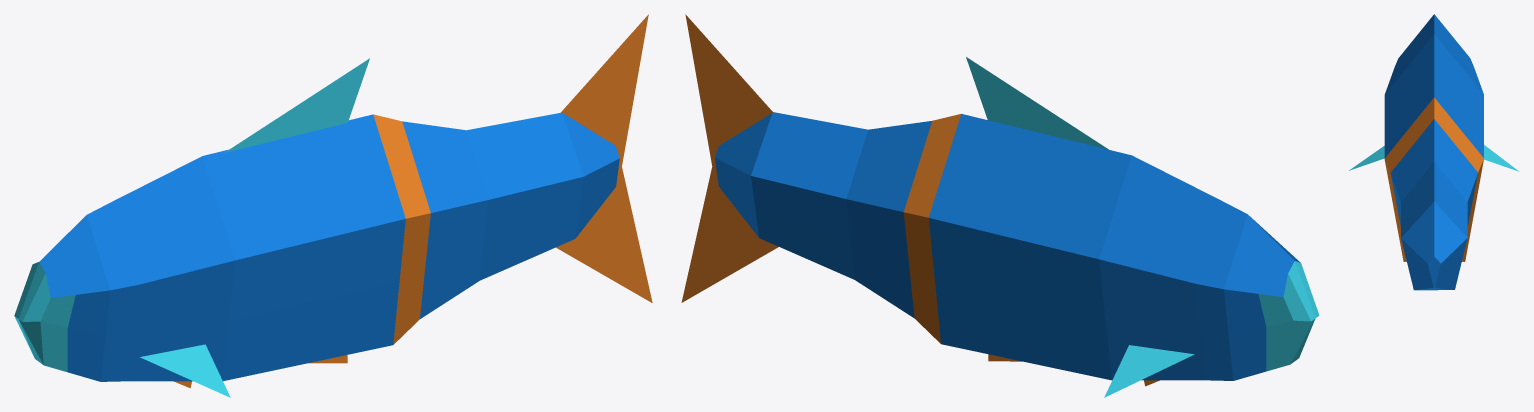
The model's file is Interactive Scene Fish.fbx.
The picture shows the model from 3 angles, left to right: view 1: azimuth 30°, elevation 25°; view 2: azimuth 150°, elevation 25°; view 3: azimuth 270°, elevation 25°; orthographic projection. The views are drawn at different scales.
Visible parts, largest first — view 1: Fish_Body, Tail, Top Fin, Left Fin; view 2: Fish_Body, Tail, Top Fin, Right Fin; view 3: Fish_Body, Right Fin, Left Fin.
Boxes of the visible parts, <box> form: Fish_Body: <box>14,112,619,381</box>; Tail: <box>556,14,652,302</box>; Top Fin: <box>224,58,369,152</box>; Left Fin: <box>140,344,230,397</box>; Fish_Body: <box>715,112,1319,380</box>; Tail: <box>681,14,778,302</box>; Top Fin: <box>966,57,1108,149</box>; Right Fin: <box>1104,345,1194,397</box>; Fish_Body: <box>1384,14,1483,290</box>; Right Fin: <box>1484,145,1519,171</box>; Left Fin: <box>1349,146,1384,170</box>.
Bounding box in the file's own units: 571 × 271 × 175.
